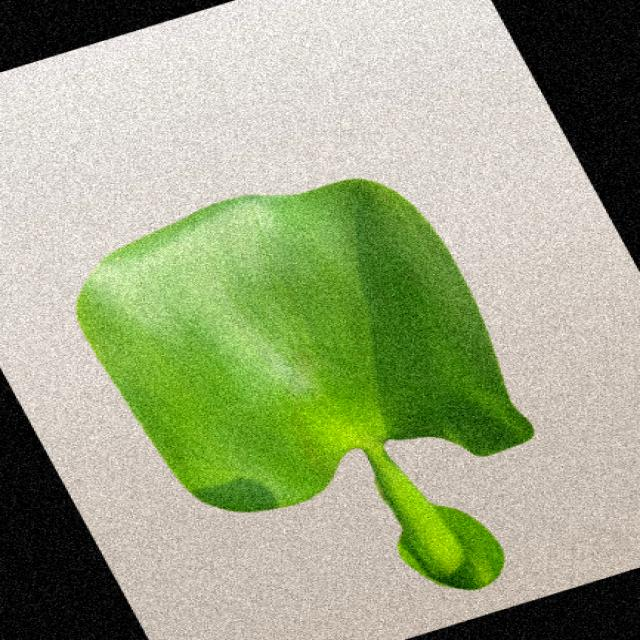daun sehat: (78, 180, 533, 589)
